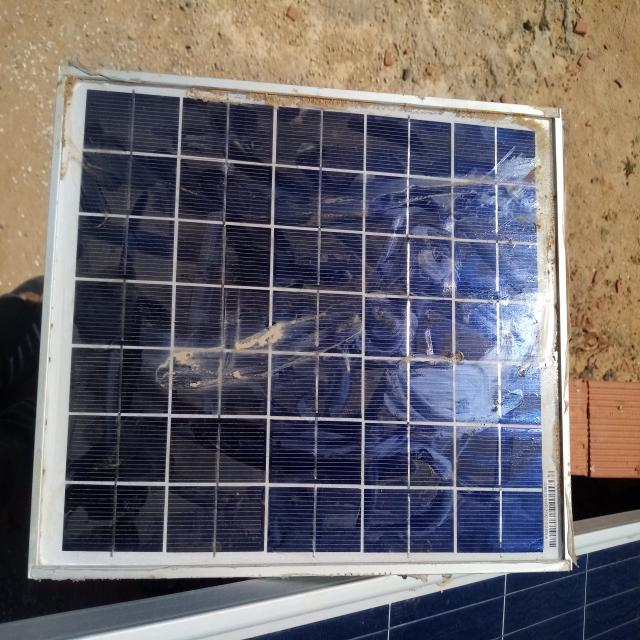faulty: (32, 73, 572, 573)
